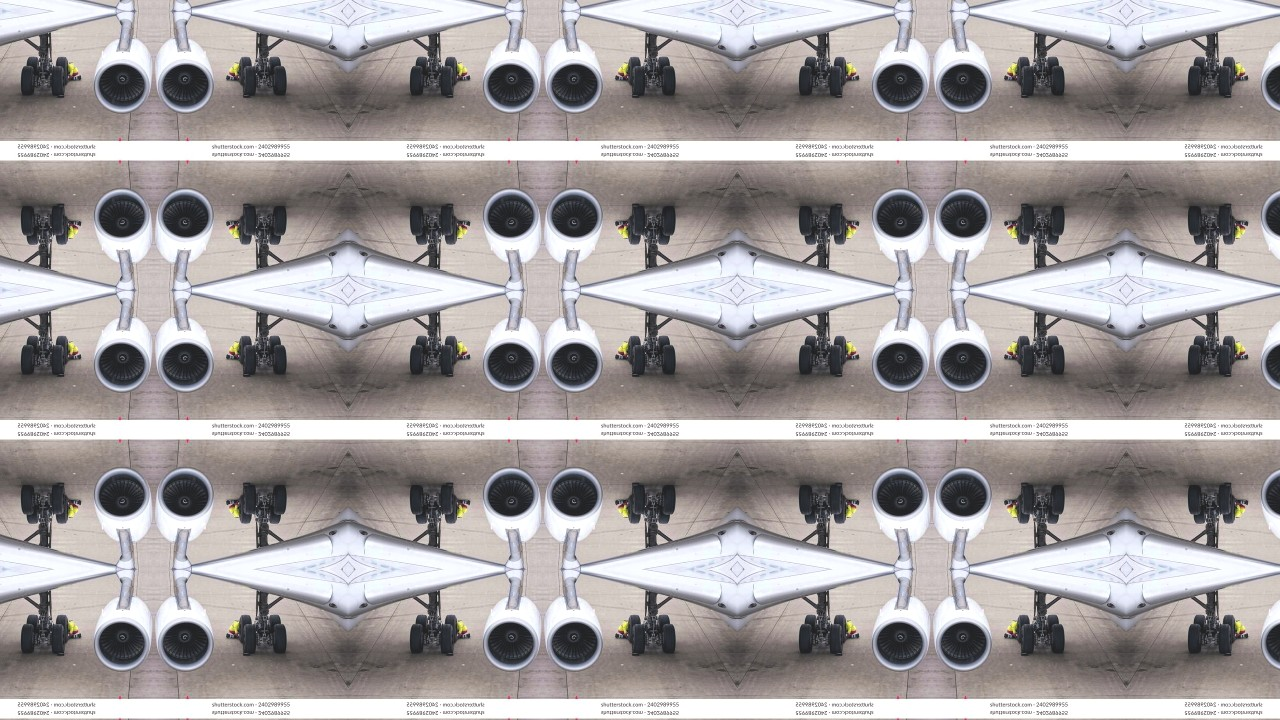chock: (55, 92, 65, 97), (240, 92, 250, 97), (445, 92, 455, 97), (630, 92, 640, 97), (835, 92, 845, 97), (1020, 92, 1030, 97), (1225, 92, 1235, 97), (55, 203, 65, 208), (240, 203, 250, 208), (445, 203, 455, 208), (630, 203, 640, 208), (835, 203, 845, 208), (1020, 203, 1030, 208), (1225, 203, 1235, 208), (55, 372, 65, 377), (240, 372, 250, 377), (445, 372, 455, 377), (630, 372, 640, 377), (835, 372, 845, 377), (1020, 372, 1030, 377), (1225, 372, 1235, 377), (55, 483, 65, 488), (240, 483, 250, 488), (445, 483, 455, 488), (630, 483, 640, 488), (835, 483, 845, 488), (1020, 483, 1030, 488), (1225, 483, 1235, 488), (55, 652, 65, 657), (240, 652, 250, 657), (445, 652, 455, 657), (630, 652, 640, 657), (835, 652, 845, 657), (1020, 652, 1030, 657), (1225, 652, 1235, 657)
wheel: (241, 204, 255, 237), (440, 204, 454, 237), (1021, 204, 1035, 237), (1220, 204, 1234, 237), (241, 484, 255, 517), (440, 484, 454, 517), (1021, 484, 1035, 517), (1220, 484, 1234, 517), (241, 64, 255, 96), (440, 64, 454, 96), (1021, 64, 1035, 96), (1220, 64, 1234, 96), (241, 344, 255, 376), (440, 344, 454, 376), (410, 343, 424, 375), (662, 343, 676, 375), (1021, 344, 1035, 376), (1220, 344, 1234, 376), (1190, 343, 1204, 375), (241, 624, 255, 656), (440, 624, 454, 656), (410, 623, 424, 655), (662, 623, 676, 655), (1021, 624, 1035, 656), (1220, 624, 1234, 656), (1190, 623, 1204, 655), (410, 63, 424, 94), (662, 63, 676, 94), (1190, 63, 1204, 94), (410, 205, 424, 236), (662, 205, 676, 236), (1190, 205, 1204, 236), (410, 485, 424, 516), (662, 485, 676, 516), (1190, 485, 1204, 516), (51, 204, 64, 237), (631, 204, 644, 237), (831, 204, 844, 237), (51, 484, 64, 517), (631, 484, 644, 517), (831, 484, 844, 517), (51, 64, 64, 96), (631, 64, 644, 96), (831, 64, 844, 96), (51, 344, 64, 376), (20, 343, 33, 375), (272, 343, 285, 375), (631, 344, 644, 376), (831, 344, 844, 376), (800, 343, 813, 375), (1052, 343, 1065, 375), (51, 624, 64, 656), (20, 623, 33, 655), (272, 623, 285, 655), (631, 624, 644, 656), (831, 624, 844, 656), (800, 623, 813, 655), (1052, 623, 1065, 655), (20, 63, 33, 94), (272, 63, 285, 94), (800, 63, 813, 94), (1052, 63, 1065, 94), (20, 205, 33, 236), (272, 205, 285, 236), (800, 205, 813, 236), (1052, 205, 1065, 236), (20, 485, 33, 516), (272, 485, 285, 516), (800, 485, 813, 516), (1052, 485, 1065, 516), (54, 615, 67, 645), (444, 615, 457, 645), (628, 615, 641, 645), (834, 615, 847, 645), (1224, 615, 1237, 645), (54, 55, 67, 84), (444, 55, 457, 84), (628, 55, 641, 84), (834, 55, 847, 84), (1224, 55, 1237, 84), (54, 215, 67, 244), (444, 215, 457, 244), (628, 215, 641, 244), (834, 215, 847, 244), (1224, 215, 1237, 244), (54, 335, 67, 364), (444, 335, 457, 364), (628, 335, 641, 364), (834, 335, 847, 364), (1224, 335, 1237, 364), (54, 495, 67, 524), (444, 495, 457, 524), (628, 495, 641, 524), (834, 495, 847, 524), (1224, 495, 1237, 524), (238, 615, 250, 645), (1018, 615, 1030, 645), (238, 55, 250, 84), (1018, 55, 1030, 84), (238, 215, 250, 244), (1018, 215, 1030, 244), (238, 335, 250, 364), (1018, 335, 1030, 364), (238, 495, 250, 524), (1018, 495, 1030, 524), (26, 55, 38, 74), (267, 55, 279, 74), (416, 55, 428, 74), (657, 55, 669, 74), (806, 55, 818, 74), (1047, 55, 1059, 74), (1196, 55, 1208, 74), (26, 226, 38, 245), (267, 226, 279, 245), (416, 226, 428, 245), (657, 226, 669, 245), (806, 226, 818, 245), (1047, 226, 1059, 245), (1196, 226, 1208, 245), (26, 335, 38, 354), (267, 335, 279, 354), (416, 335, 428, 354), (657, 335, 669, 354), (806, 335, 818, 354), (1047, 335, 1059, 354), (1196, 335, 1208, 354), (26, 506, 38, 525), (267, 506, 279, 525), (416, 506, 428, 525), (657, 506, 669, 525), (806, 506, 818, 525), (1047, 506, 1059, 525), (1196, 506, 1208, 525), (26, 615, 38, 634), (267, 615, 279, 634), (416, 615, 428, 634), (657, 615, 669, 634), (806, 615, 818, 634), (1047, 615, 1059, 634), (1196, 615, 1208, 634)
